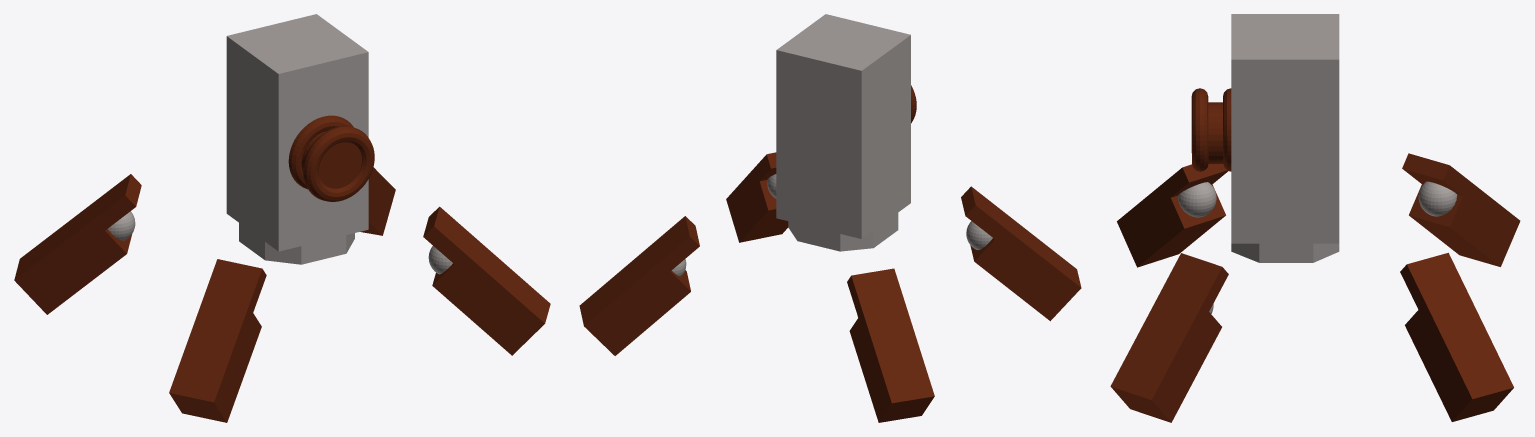
3 renders of one model, left to right at view 1: azimuth 30°, elevation 25°; view 2: azimuth 150°, elevation 25°; view 3: azimuth 270°, elevation 25°, orthographic. The views are drawn at different scales.
Parts seen in each view (by area): view 1: S01n; view 2: S01n; view 3: S01n.
Boxes of the visible parts, box(x1,y1,x2,y2) form: S01n: box(14, 14, 550, 422); S01n: box(579, 14, 1081, 422); S01n: box(1110, 14, 1520, 422).
Bounding box in the file's own units: 8.4 × 6.2 × 7.61.
